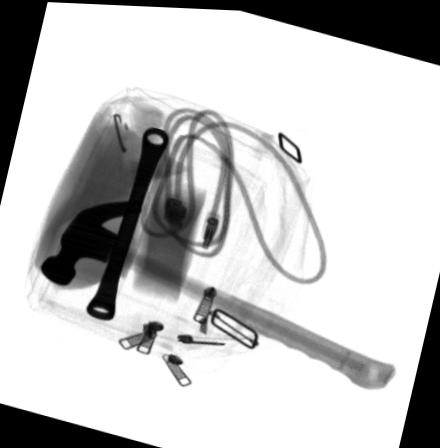Hammer: (36, 198, 396, 383)
Wrench: (85, 123, 168, 318)
